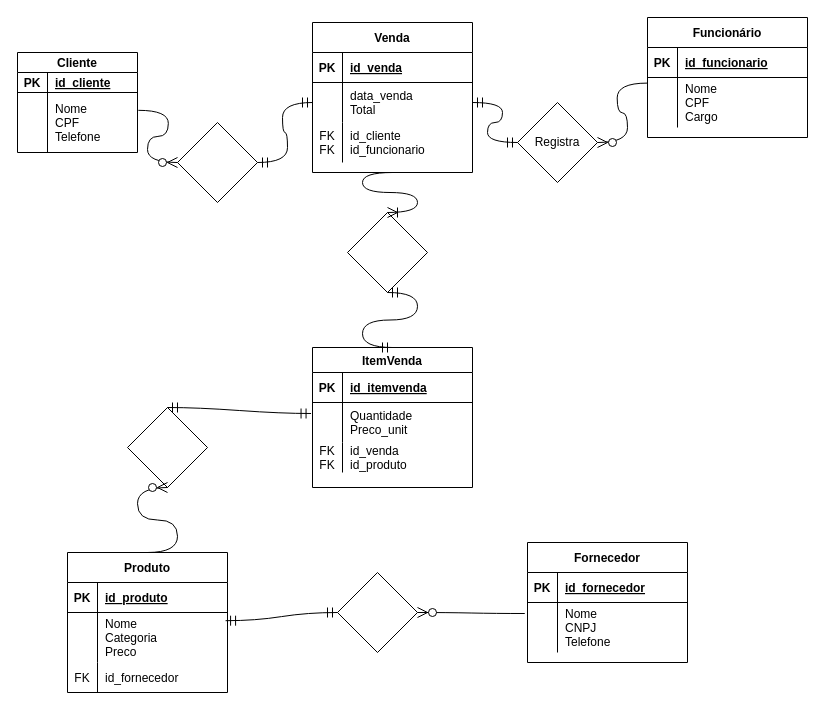
Some shapes in this 825 by 710 pixel diagram are drawn without their labels. Here are the shapes that lost their labels. From the top down, the centre of each, then its label:
At (217,162): "Realiza".
At (387,252): "Contém".
At (167,447): "Está em".
At (377,612): "Fornece".
